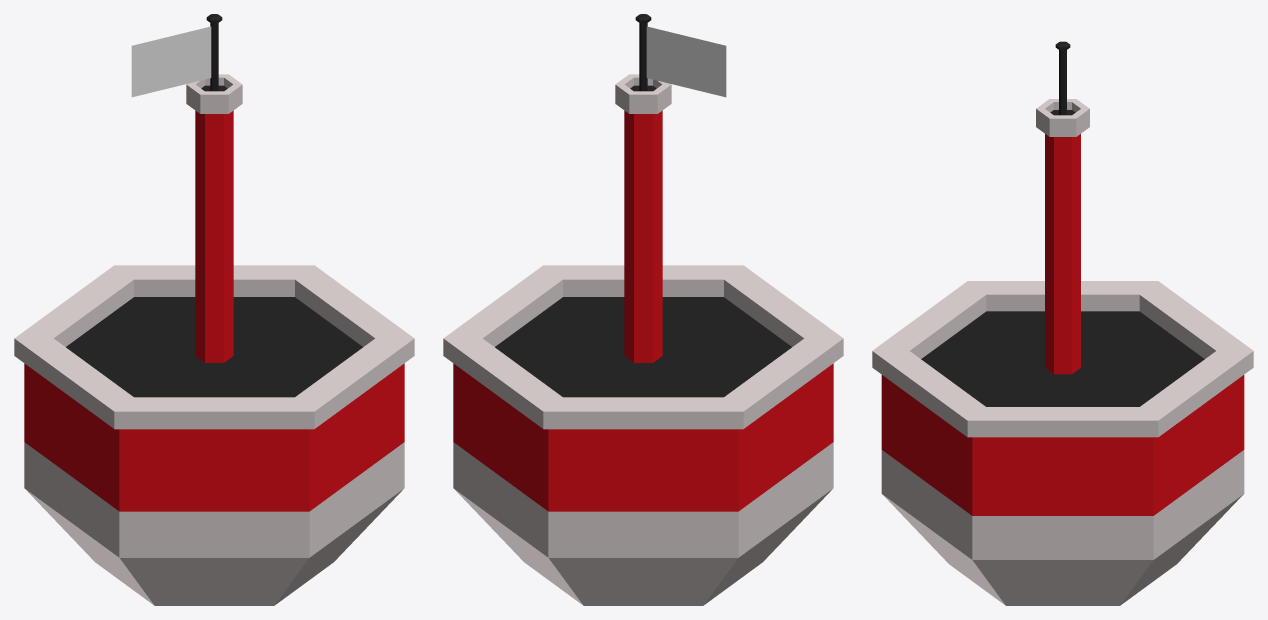
File: buoy.fbx
The picture shows the model from 3 angles, left to right: view 1: azimuth 30°, elevation 25°; view 2: azimuth 150°, elevation 25°; view 3: azimuth 270°, elevation 25°; orthographic projection. The views are drawn at different scales.
Parts seen in each view (by area): view 1: Cylinder.001, Cylinder.002, Plane; view 2: Cylinder.001, Cylinder.002, Plane; view 3: Cylinder.001, Cylinder.002.
Boxes of the visible parts, <box> form: Cylinder.001: <box>14,265,414,605</box>; Cylinder.002: <box>186,14,242,362</box>; Plane: <box>131,26,211,97</box>; Cylinder.001: <box>443,265,843,605</box>; Cylinder.002: <box>615,14,671,362</box>; Plane: <box>646,26,726,97</box>; Cylinder.001: <box>872,281,1253,605</box>; Cylinder.002: <box>1036,41,1089,374</box>.
Bounding box in the file's own units: 182 × 330 × 211.
